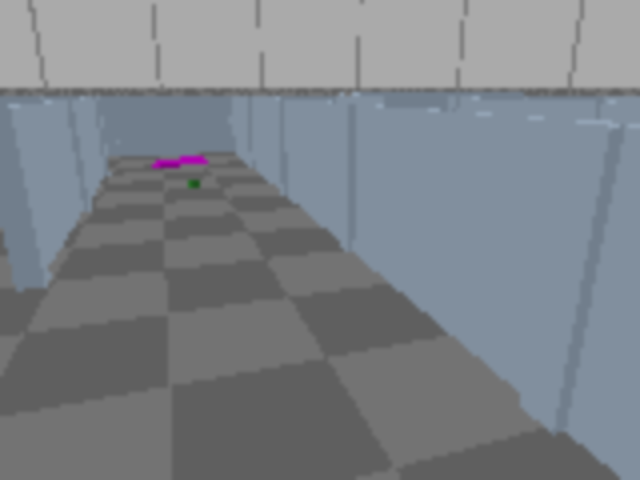goal_zone: (154, 157, 207, 167)
